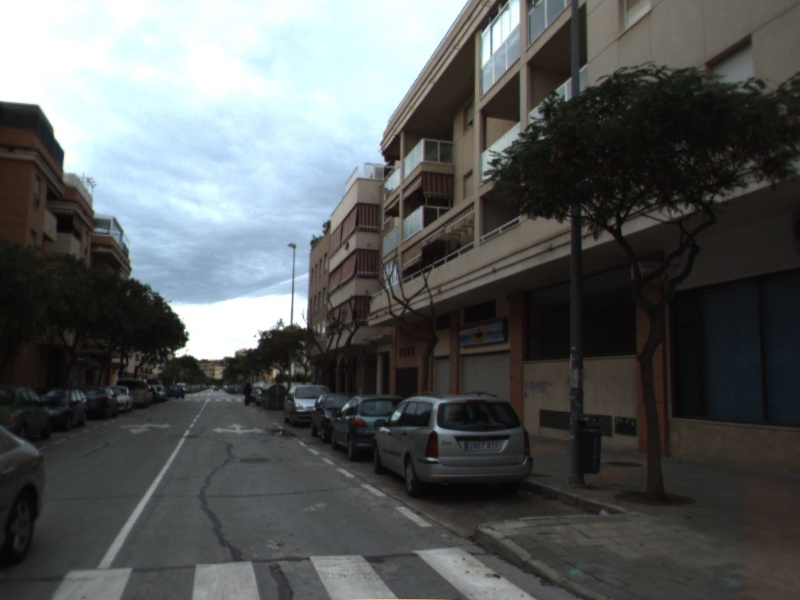STRAIGHT_LEFT_RIGHT: (210, 422, 267, 436)
